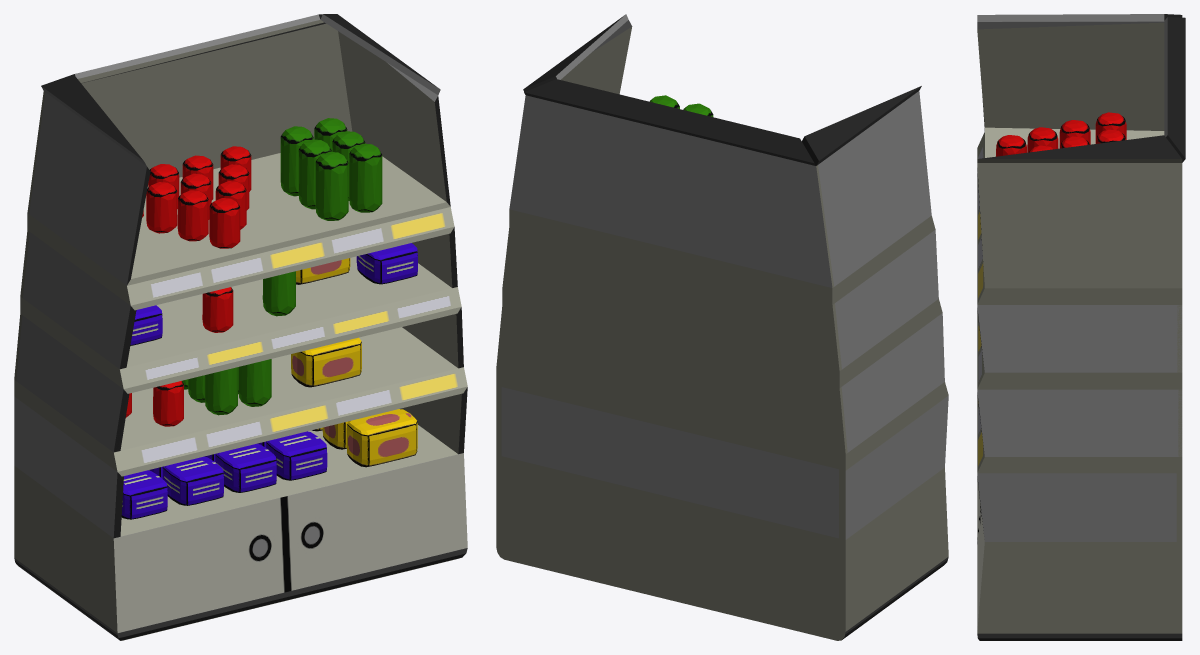
File: Shelf.fbx
3 views of the same model, side by side, from view 1: azimuth 30°, elevation 25°; view 2: azimuth 150°, elevation 25°; view 3: azimuth 270°, elevation 25° (orthographic).
Parts seen in each view (by area): view 1: Shelf, Boxes0, Cans1, Cans0, Boxes1, Cans3, Ybox2, Bbox2, Rcan, Gcan, Rcan2, Bbox (+1 smaller); view 2: Shelf; view 3: Shelf, Cans0.
Boxes of the visible parts, x1,y1,x2,y2 form: Shelf: (14, 14, 467, 640); Boxes0: (121, 431, 327, 519); Cans1: (280, 118, 382, 220); Cans0: (142, 146, 251, 248); Boxes1: (312, 409, 417, 467); Cans3: (182, 359, 271, 415); Ybox2: (291, 337, 361, 387); Bbox2: (356, 243, 417, 284); Rcan: (202, 287, 233, 332); Gcan: (262, 271, 295, 316); Rcan2: (153, 381, 183, 426); Bbox: (130, 305, 162, 345); Shelf: (496, 14, 948, 640); Shelf: (977, 14, 1185, 640); Cans0: (996, 112, 1126, 156).
Size of the model in its own units: 178 by 237 by 92.26.
